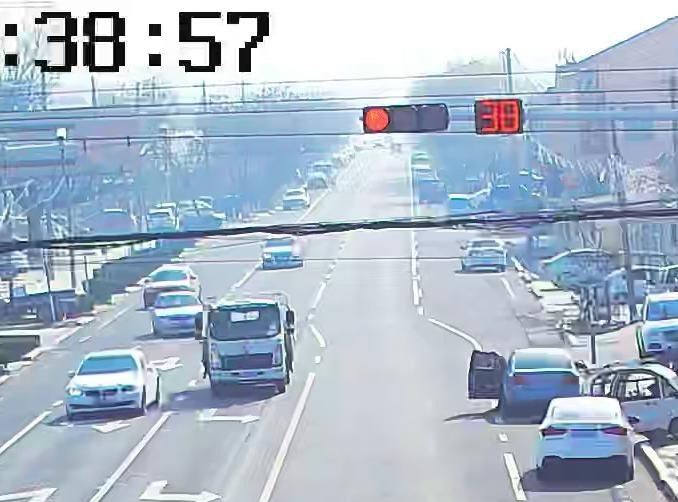red: (364, 107, 391, 132)
redtime: (476, 102, 520, 133)
